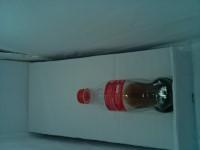bottle: (74, 80, 174, 112)
